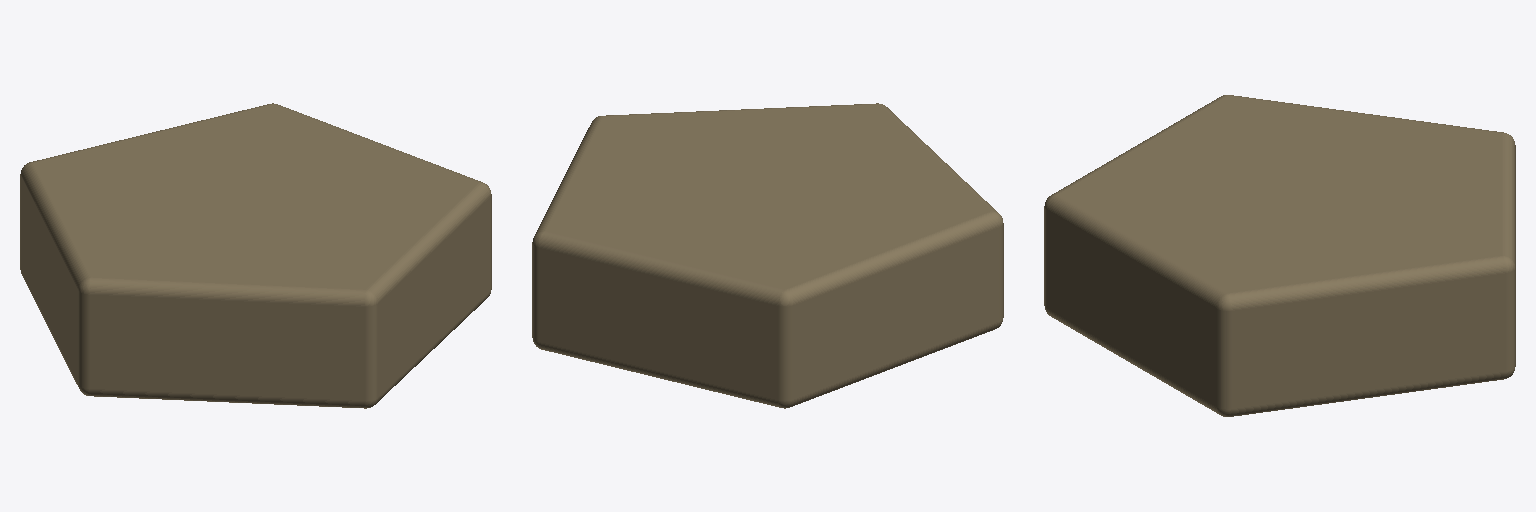
robot.urdf — pentagram_stout:
<?xml version="1.0"?>
<robot name="pentagram_stout">
  <link name="base_link">
    <visual>
      <origin xyz="0 0 0" rpy="0 0 0" />
      <geometry>
        <mesh filename="pentagram_stout.obj"/>      
      </geometry>
      <material name="tan">
        <color rgba="0.55 0.5 0.4 1"/>
      </material>
    </visual>
    <collision>
      <origin xyz="0 0 0" rpy="0 0 0" />
      <geometry>
        <mesh filename="pentagram_stout.obj"/>
      </geometry>
    </collision>
  </link>
</robot>

--- What the picture shows (computed from the rendered views, not written in the file) ---
The picture shows the robot from 3 angles, left to right: view 1: azimuth 30°, elevation 25°; view 2: azimuth 150°, elevation 25°; view 3: azimuth 270°, elevation 25°; orthographic projection.
Model pentagram_stout with 1 links and 0 joints (none), rooted at base_link, posed every joint at zero.
Links seen in each view (by area): view 1: base_link; view 2: base_link; view 3: base_link.
Link boxes in pixels (x1,y1,x2,y2): base_link: (20,103,491,408); base_link: (532,103,1003,408); base_link: (1044,95,1515,416).
Bounding box of the posed robot: 46.29 × 44.15 × 12.7 m (x, y, z).
1 mesh visuals loaded from 1 distinct referenced files (1 OBJ).
